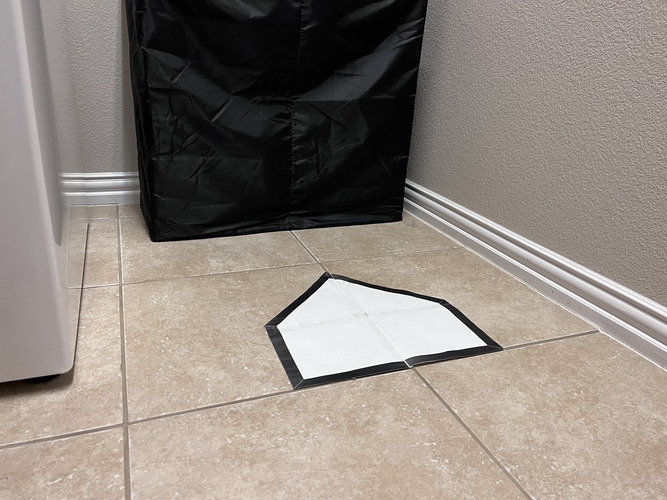homeplate: (265, 270, 506, 391)
